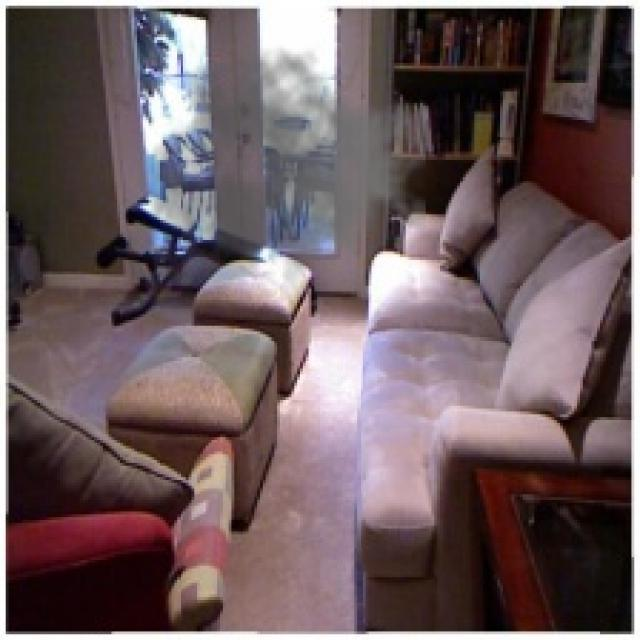Smoke: (146, 37, 426, 303)
